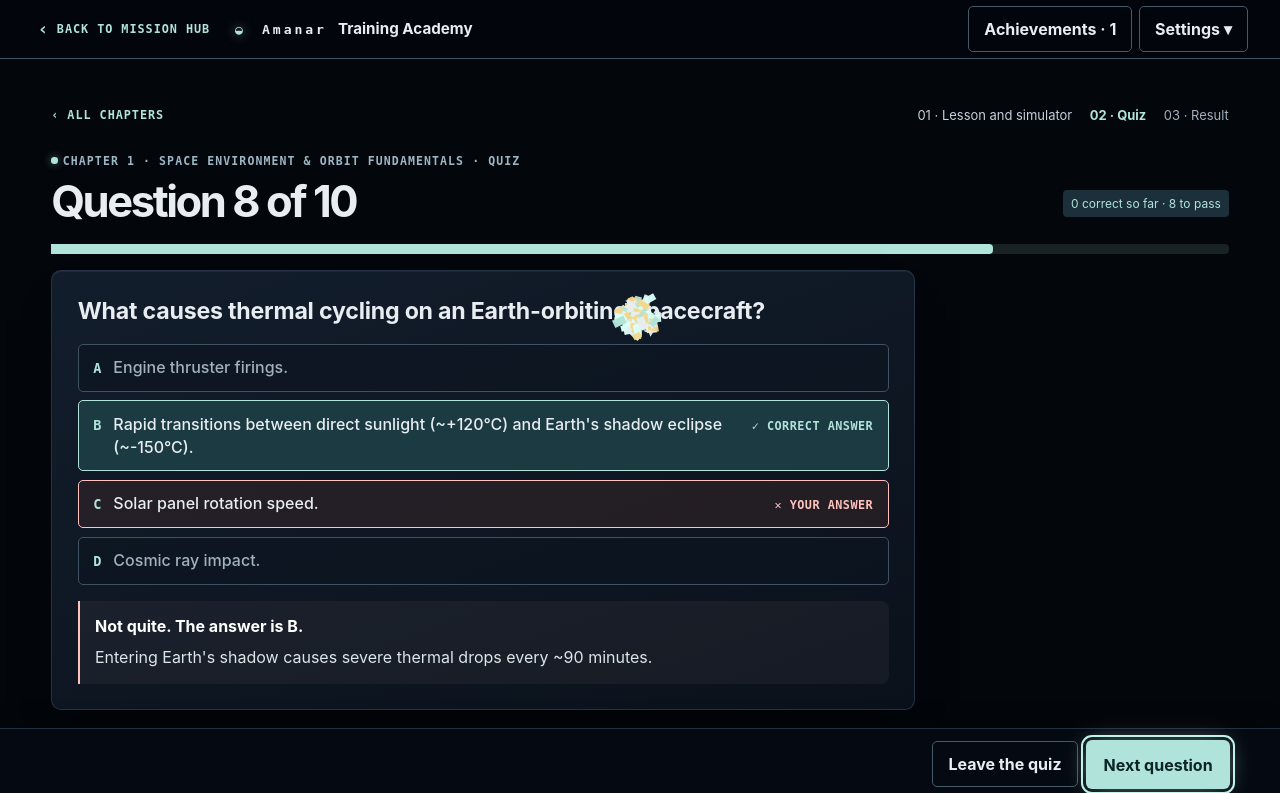
Test case: Academy flow › offers a retry and the lesson after a failed quiz, without unlocking anything
The image size is (1280, 793).
Earlier steps of the test are not shown.
Step 1. Click the button "Next question" → (1158, 765), box [1087,742,1229,788]
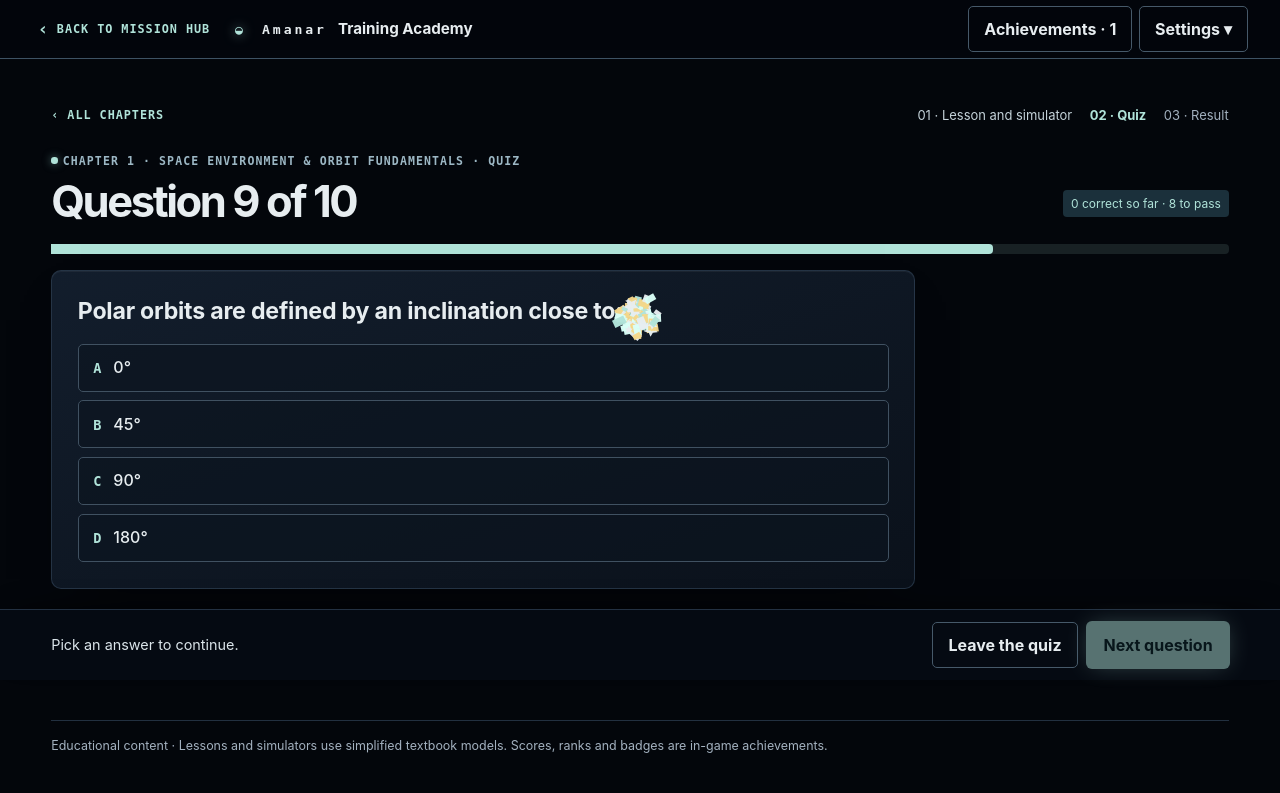
Step 2. Click the button "D 180°" → (131, 537), box [78,514,889,562]
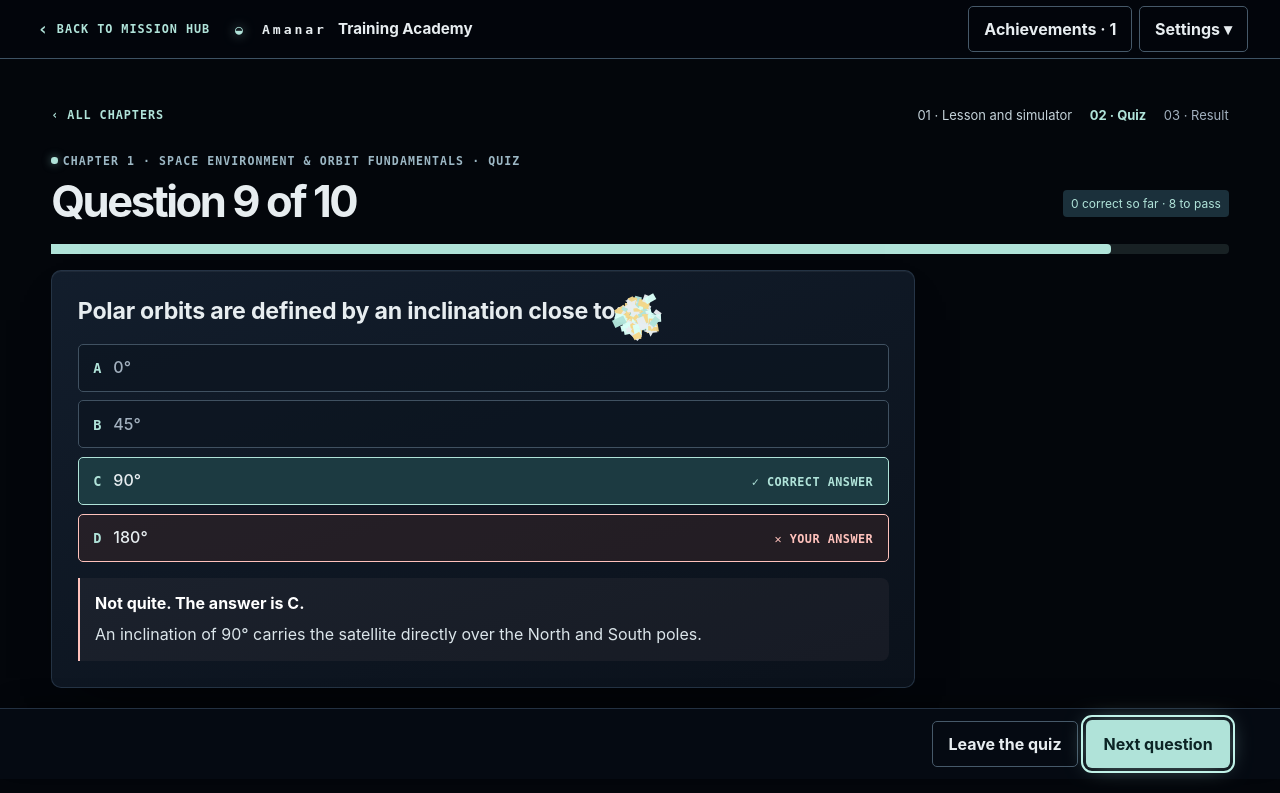
Step 3. Click the button "Next question" → (1158, 744), box [1087,721,1229,767]
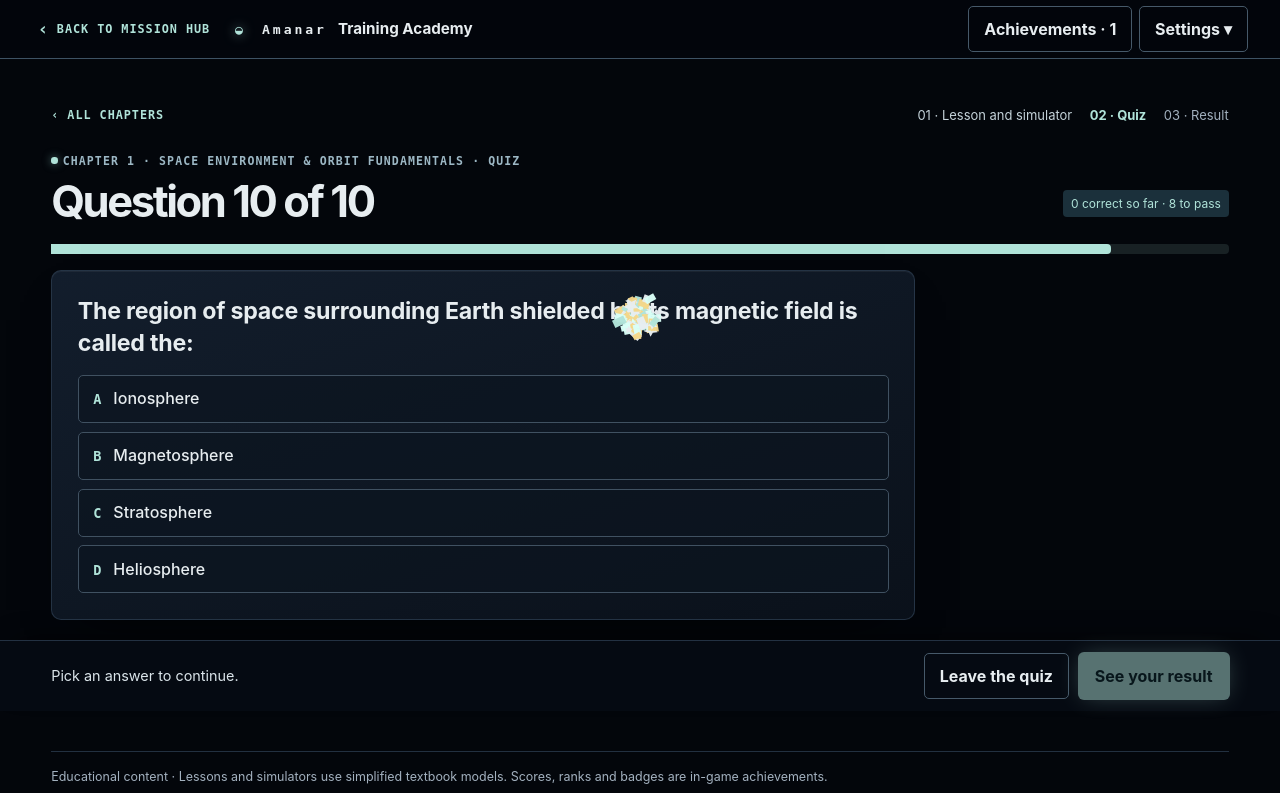
Step 4. Click the button "C Stratosphere" → (163, 512), box [78,488,889,536]
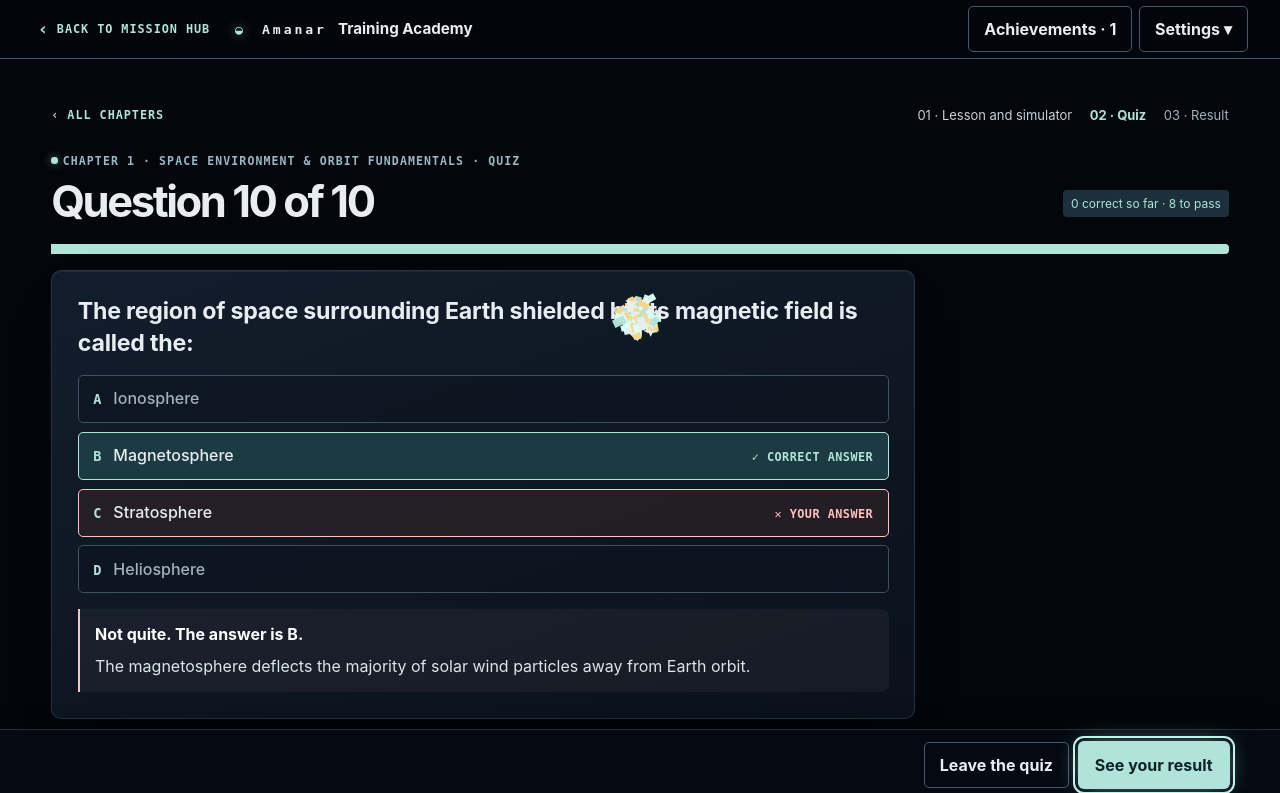
Step 5. Click the button "See your result" → (1154, 765), box [1079,742,1229,788]
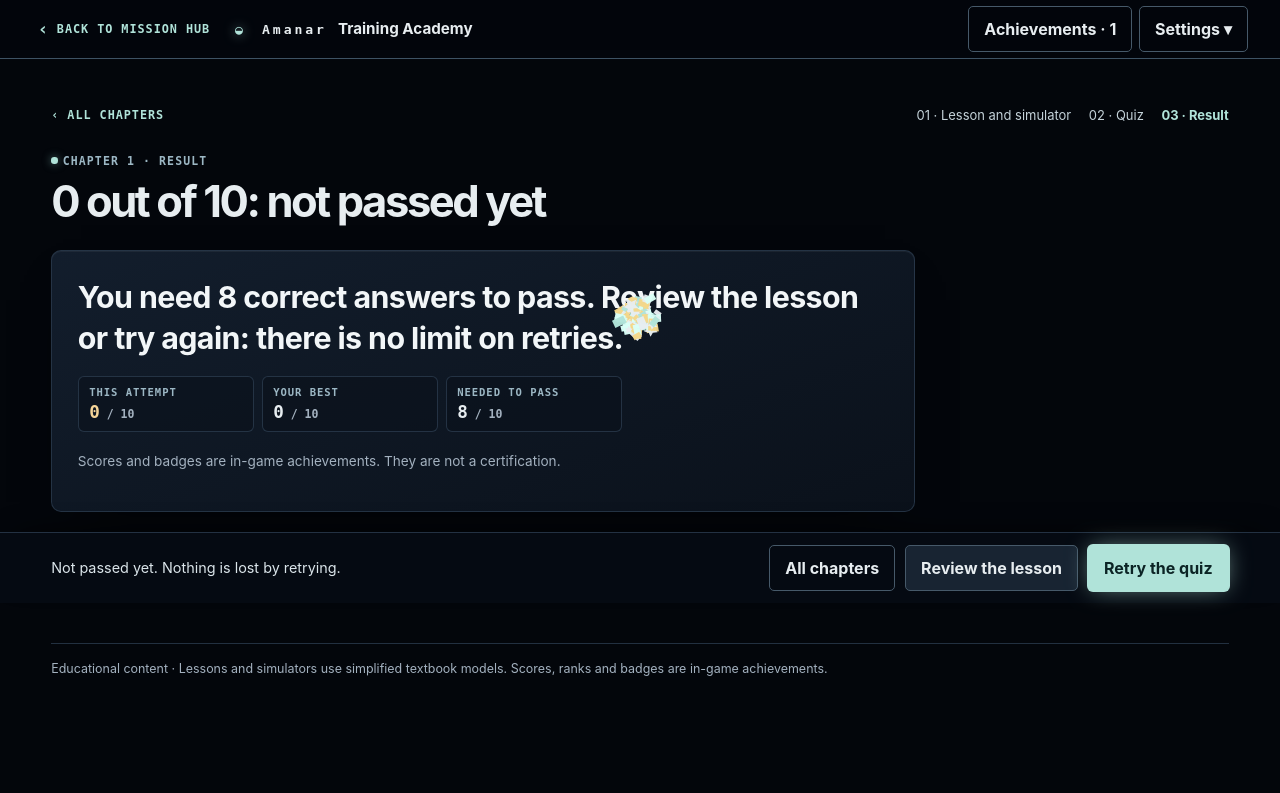
Result: the heading "0 out of 10: not passed yet" is shown at [51,175,545,227]
Result: the link "Review the lesson" is shown at [905,545,1078,591]
Step 6. Click the button "Retry the quiz" → (1158, 568), box [1088,545,1229,591]
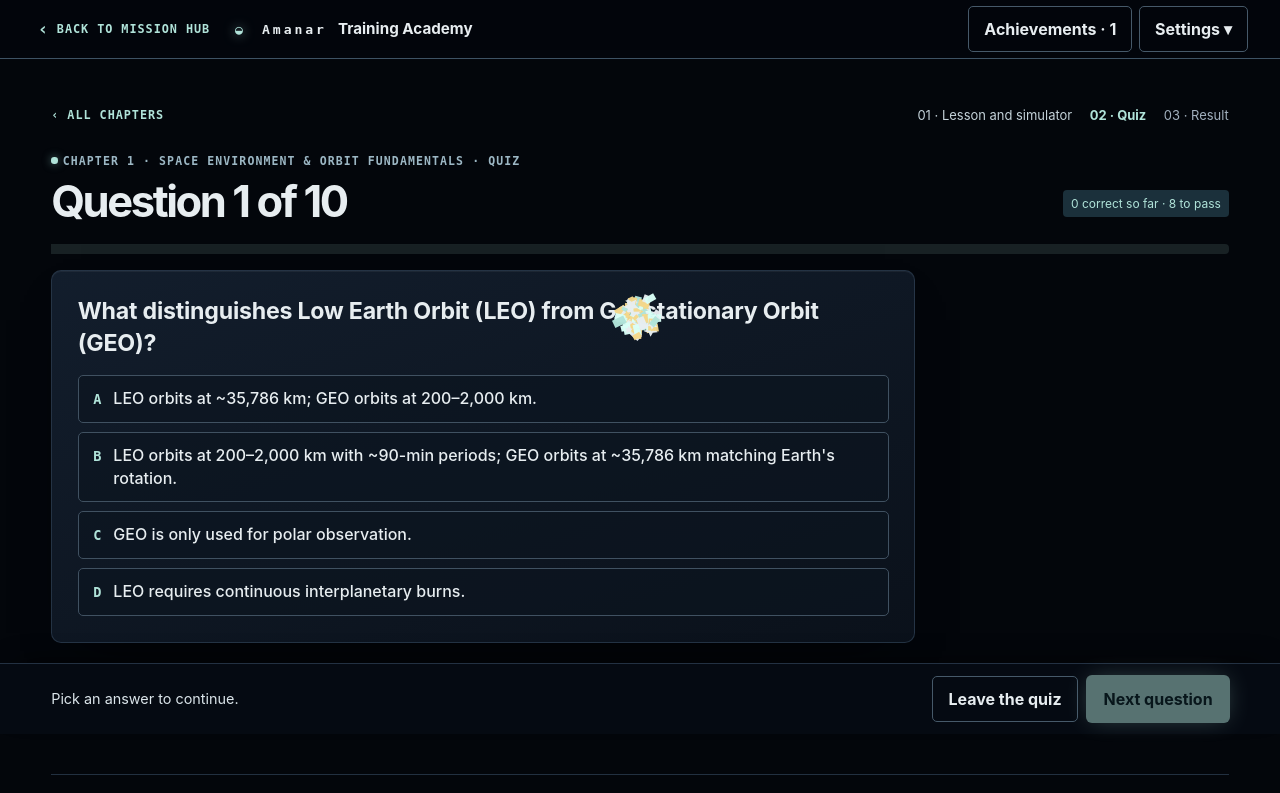
Result: the heading "Question 1 of 10" is shown at [51,175,347,227]
